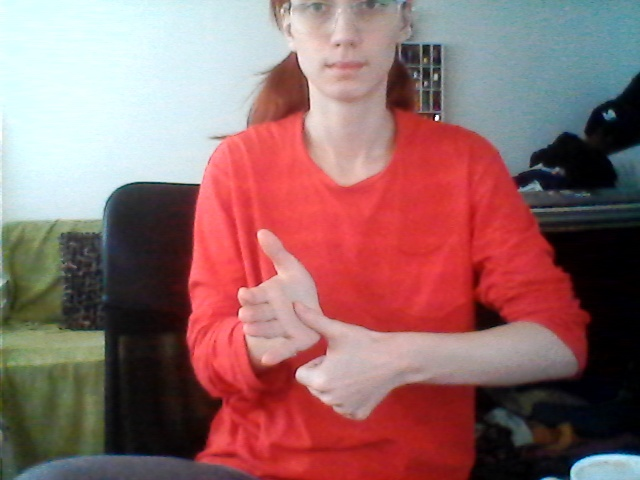pivo: (226, 223, 397, 423)
